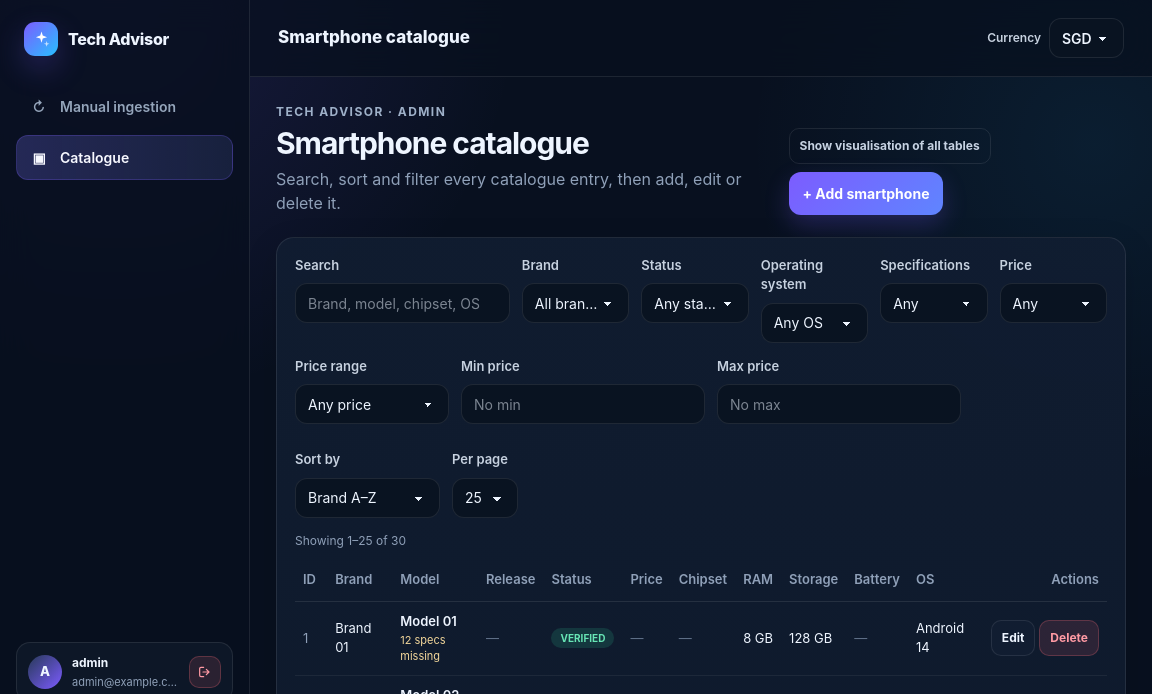
Test case: AdminCatalogue › shows read-only price and benchmark history when editing
Expected: the text "Showing 1–25 of 30" is shown, 295,532 -> 406,548
Click the button with aria-label "Edit Brand 01 Model 01" at [1013, 638], box 991,620 -> 1035,656
(page scrolled)
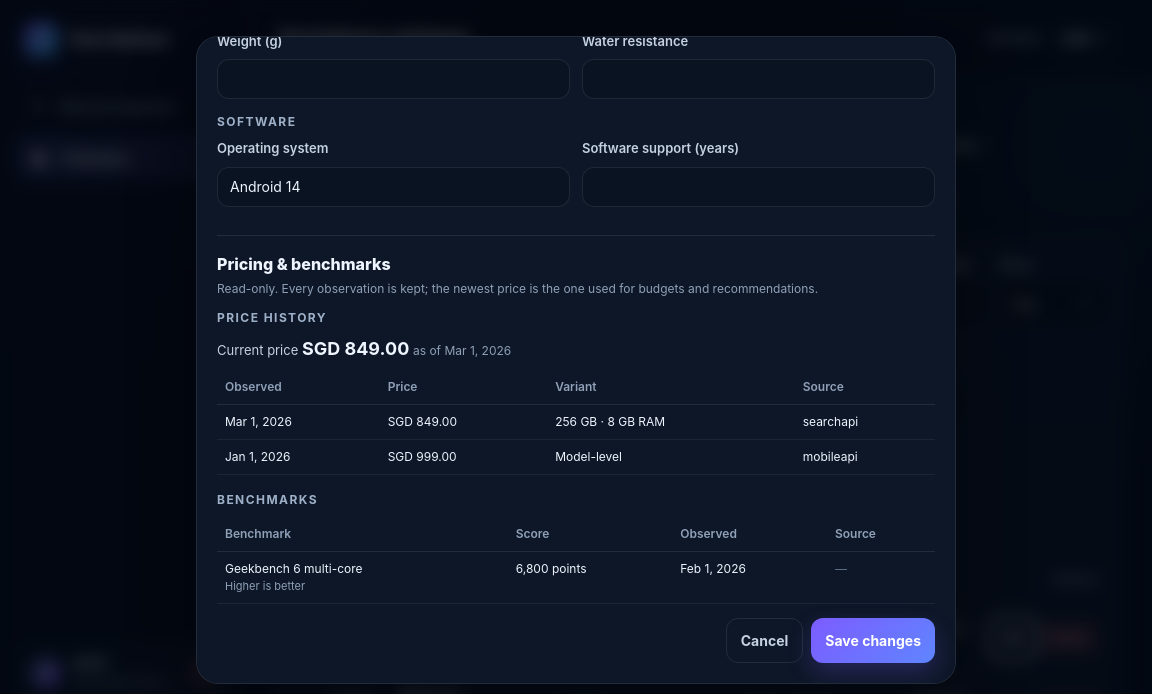
Expected: the text "Current price SGD 849.00 as of Mar 1, 2026" is shown, 217,338 -> 511,359
Expected: the text "256 GB · 8 GB RAM" is shown, 547,405 -> 795,440
Expected: the text "Model-level" is shown, 547,440 -> 795,475
